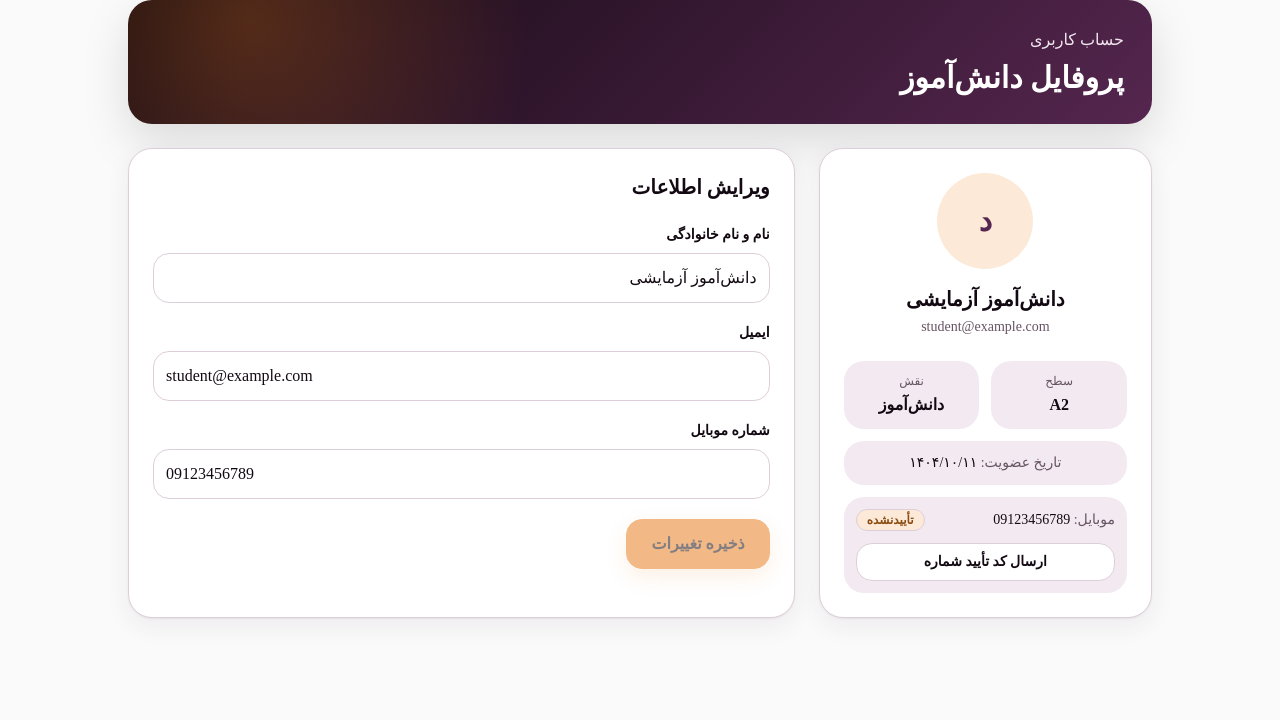
Test case: ProfilePage phone verification › verifies the phone number by SMS when SMS is on
Expected: the text "تأییدنشده" is shown, [856,509,925,531]
Click the button "ارسال کد تأیید شماره" at (985, 562), box [856,543,1115,581]
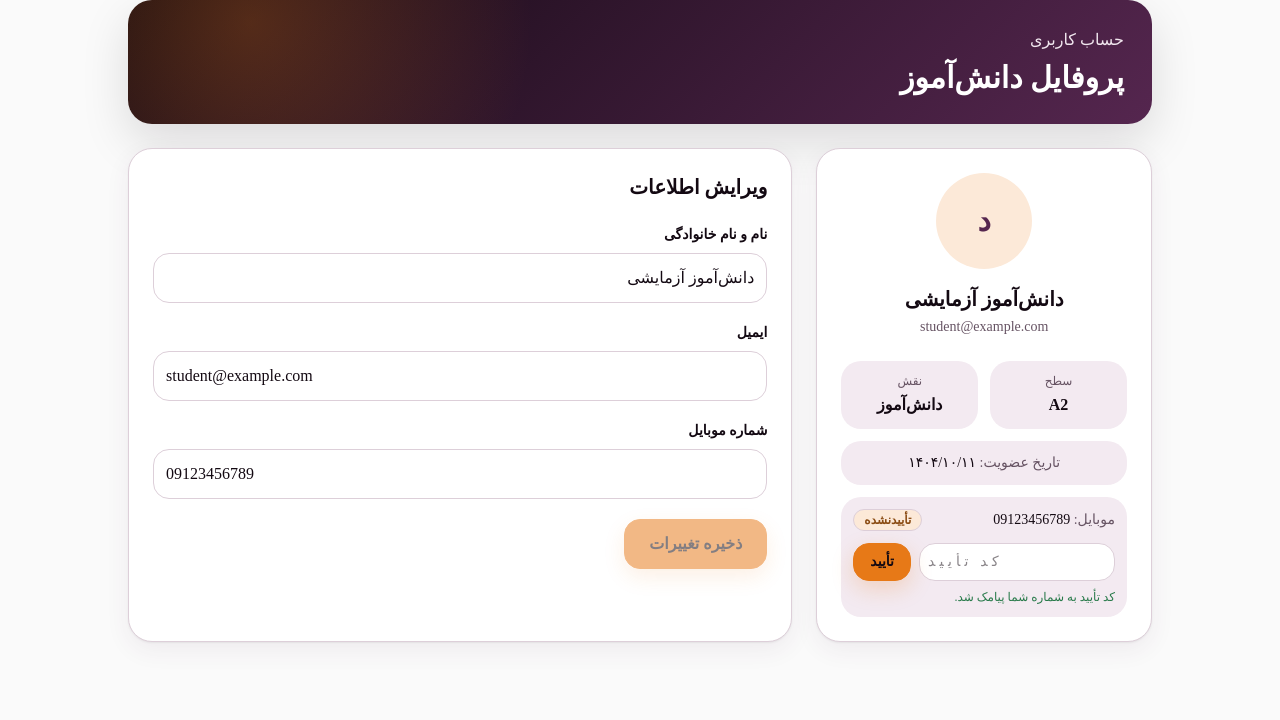
Expected: the text "کد تأیید به شماره شما پیامک شد." is shown, [954,590,1115,604]
Type "۱۲۳۴۵۶" into the field labelled "کد تأیید" at (1017, 562), box [919,543,1115,581]
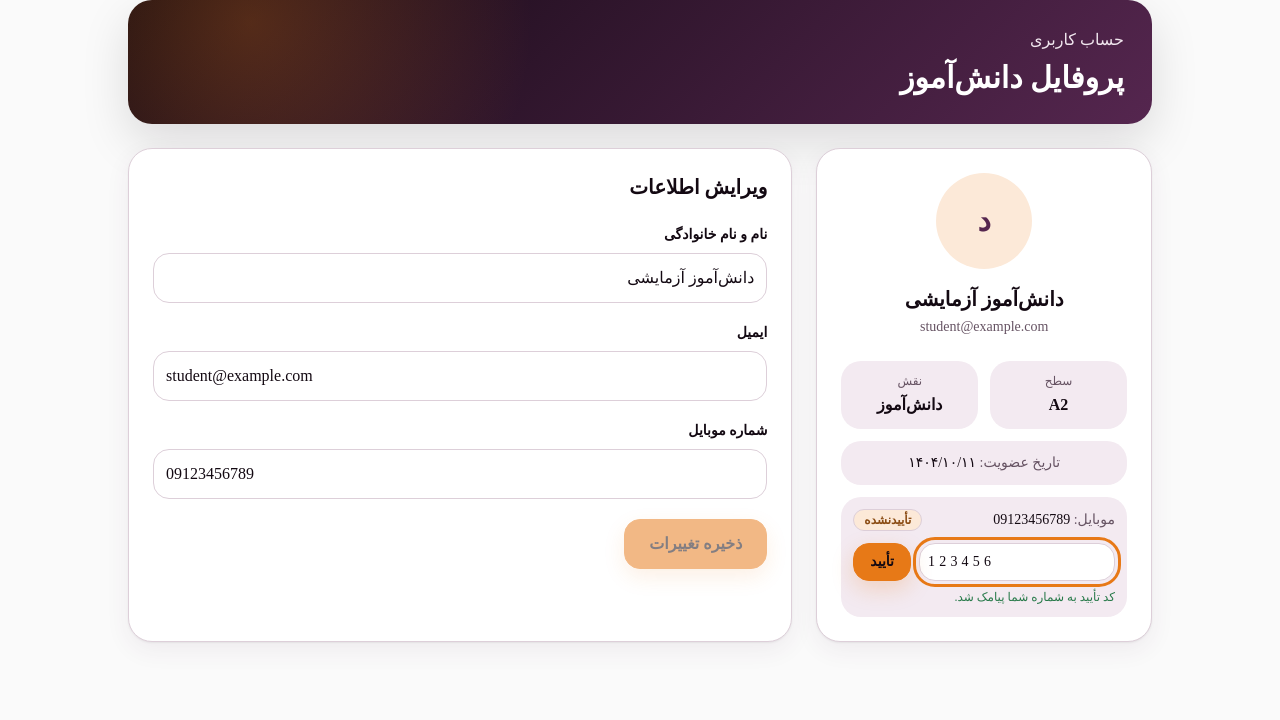
Click the button "تأیید" at (882, 562), box [853,543,911,581]
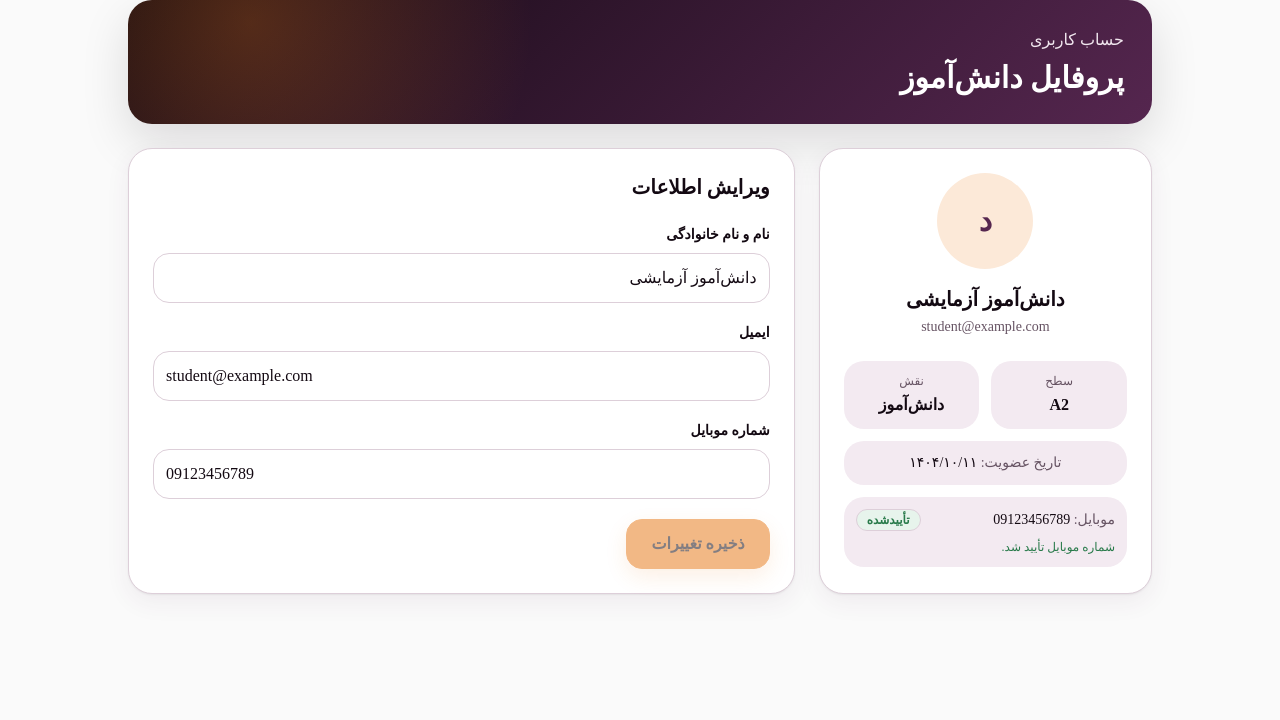
Expected: the text "تأییدشده" is shown, [856,509,921,531]
